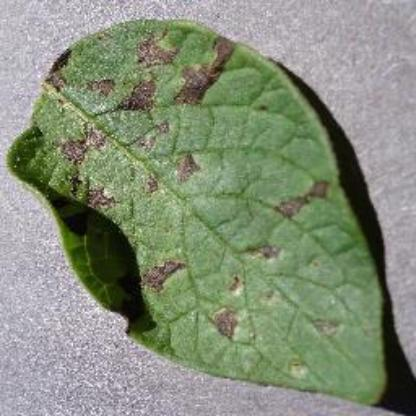Early-Blight: (8, 14, 414, 408)
